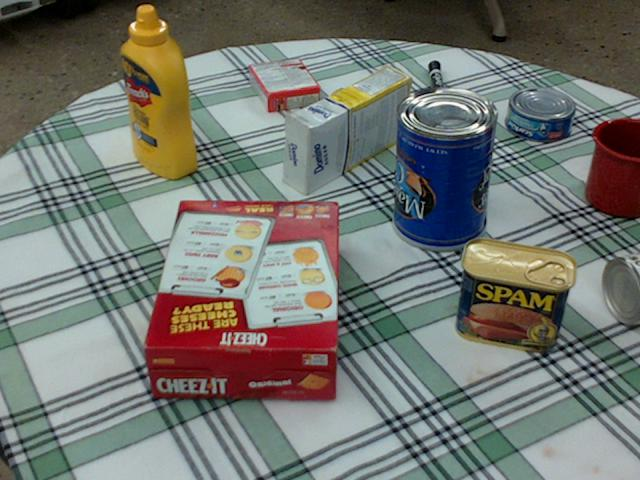cracker_box: (143, 202, 338, 398)
gelatin_box: (249, 59, 319, 111)
large_marker: (428, 59, 446, 111)
master_chef_can: (391, 86, 499, 249)
mug: (585, 118, 639, 218)
mustard_bottle: (120, 5, 195, 177)
potted_meat_can: (455, 237, 575, 350)
sugar_box: (284, 65, 410, 195)
tomato_soup_can: (603, 252, 639, 322)
tuna_fish_can: (506, 87, 575, 141)
